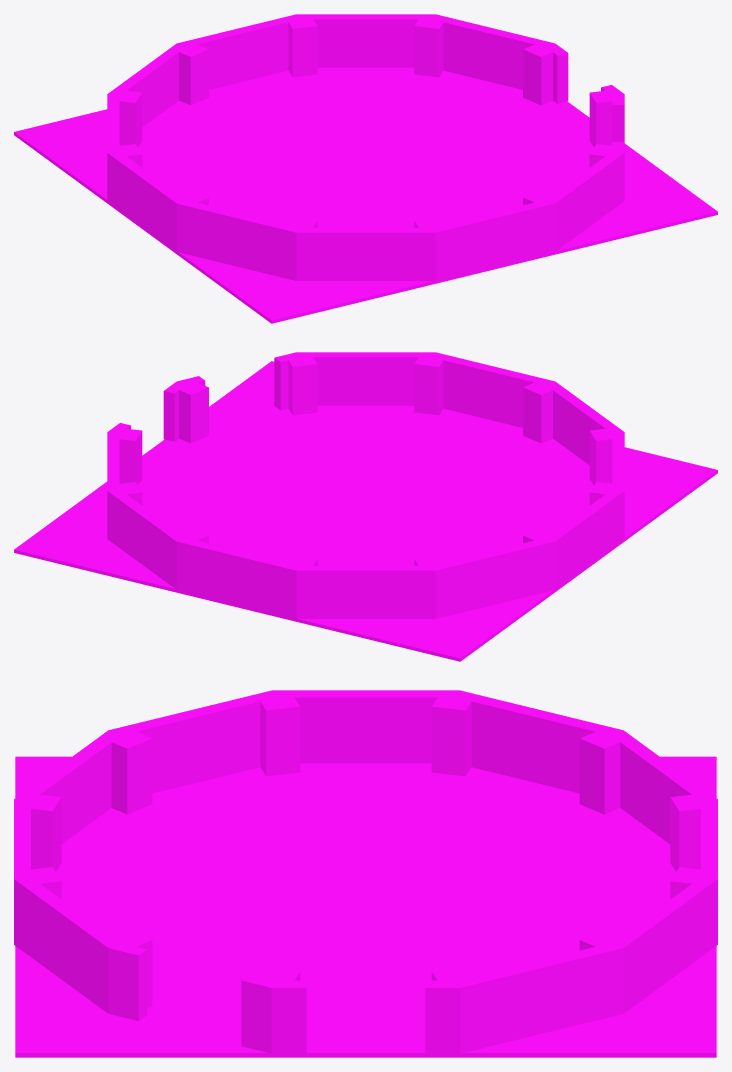
The model's file is guild-hall-doors-collision.glb.
The picture shows the model from 3 angles, top to bottom: view 1: azimuth 30°, elevation 25°; view 2: azimuth 150°, elevation 25°; view 3: azimuth 270°, elevation 25°; orthographic projection. The views are drawn at different scales.
Visible parts, largest first — view 1: guild-hall-collision.001; view 2: guild-hall-collision.001; view 3: guild-hall-collision.001.
Part boxes in pixels (x1,y1,x2,y2): guild-hall-collision.001: (14, 14, 717, 323); guild-hall-collision.001: (14, 352, 717, 661); guild-hall-collision.001: (14, 690, 717, 1057).
Size of the model in its own units: 29.1 by 3.2 by 29.1.
